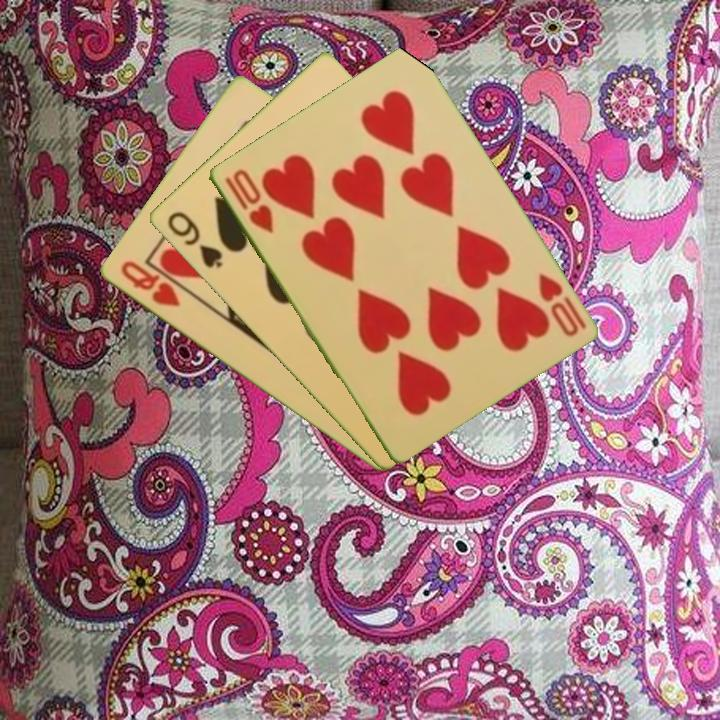10h: (220, 165, 276, 236), (534, 269, 589, 340)
9s: (163, 207, 225, 271)
Qh: (116, 257, 183, 310)
